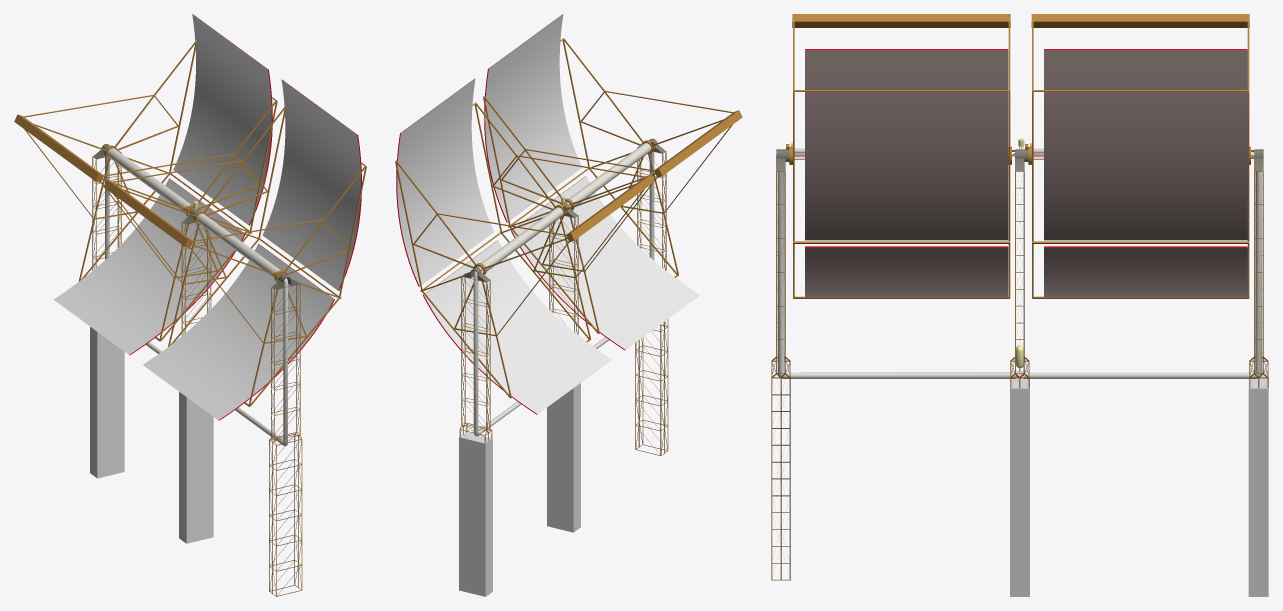
File: Solar_Thermal_Mirror_Set_Center_Circuit.glb
3 renders of one model, left to right at view 1: azimuth 30°, elevation 25°; view 2: azimuth 150°, elevation 25°; view 3: azimuth 270°, elevation 25°, orthographic. The views are drawn at different scales.
Visible parts, largest first — view 1: MirrorTower_LOD0, STEMP-colonly.001, STEMP-colonly.002; view 2: MirrorTower_LOD0, STEMP-colonly.002, STEMP-colonly.001; view 3: MirrorTower_LOD0, STEMP-colonly.002, STEMP-colonly.001.
Boxes of the visible parts, left/top/right/bottom form: MirrorTower_LOD0: left=14, top=14, right=366, bottom=596; STEMP-colonly.001: left=179, top=392, right=213, bottom=543; STEMP-colonly.002: left=90, top=326, right=124, bottom=478; MirrorTower_LOD0: left=395, top=14, right=742, bottom=455; STEMP-colonly.002: left=459, top=432, right=492, bottom=596; STEMP-colonly.001: left=547, top=383, right=580, bottom=532; MirrorTower_LOD0: left=771, top=14, right=1268, bottom=580; STEMP-colonly.002: left=1248, top=371, right=1268, bottom=596; STEMP-colonly.001: left=1010, top=371, right=1029, bottom=596.
Size of what is drawn, in the model's own units: 26.36 by 61.09 by 46.55.
